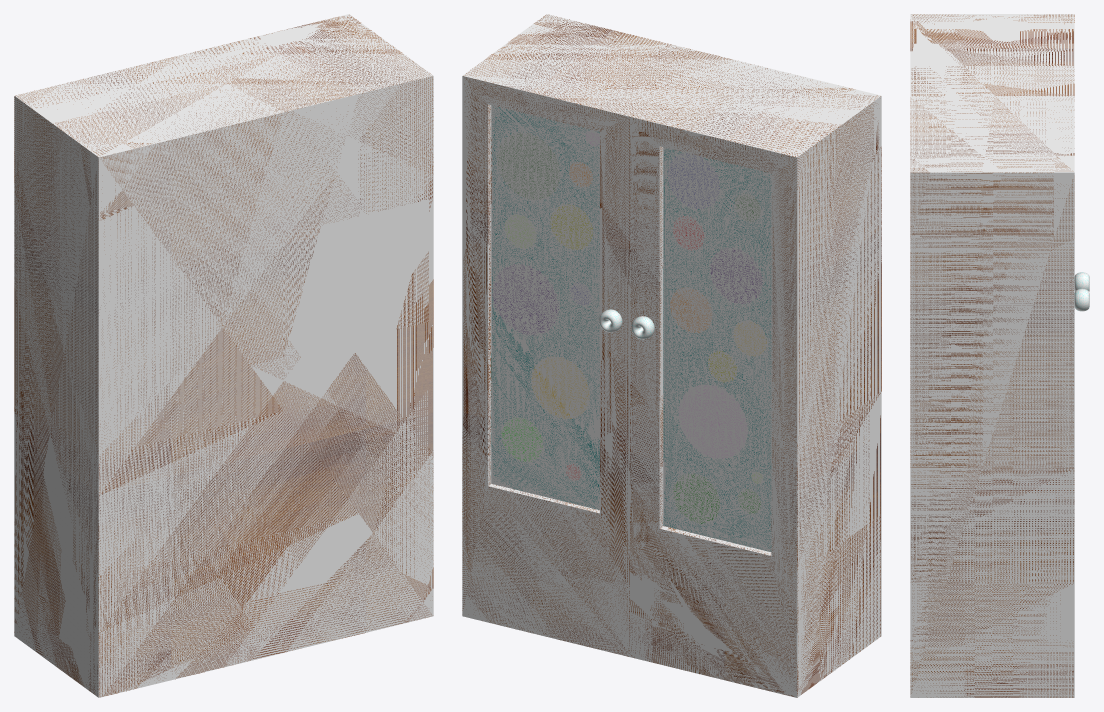
The picture shows the model from 3 angles, left to right: view 1: azimuth 30°, elevation 25°; view 2: azimuth 150°, elevation 25°; view 3: azimuth 270°, elevation 25°; orthographic projection. The views are drawn at different scales.
Parts seen in each view (by area): view 1: mesh1_mesh1-geometry; view 2: mesh1_mesh1-geometry; view 3: mesh1_mesh1-geometry, mesh3_mesh3-geometry.
Part boxes in pixels (x1=…): mesh1_mesh1-geometry: x1=14, y1=14, x2=433, y2=697; mesh1_mesh1-geometry: x1=462, y1=14, x2=881, y2=697; mesh1_mesh1-geometry: x1=910, y1=14, x2=1074, y2=697; mesh3_mesh3-geometry: x1=1074, y1=288, x2=1089, y2=311.
Size of the model in its own units: 0.5266 by 0.8122 by 0.2511.
